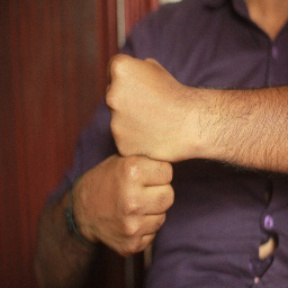G: (72, 44, 194, 256)
